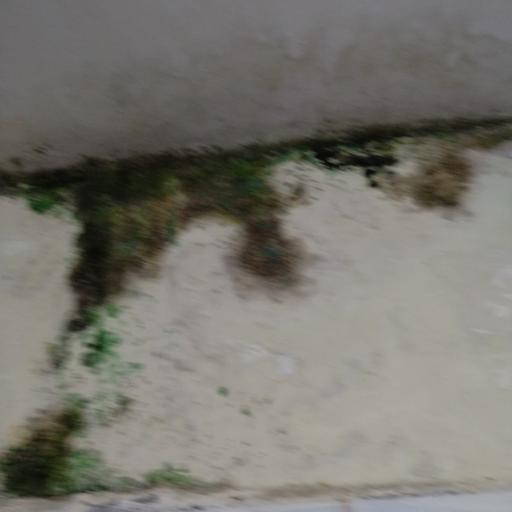algae: (8, 137, 512, 512)
